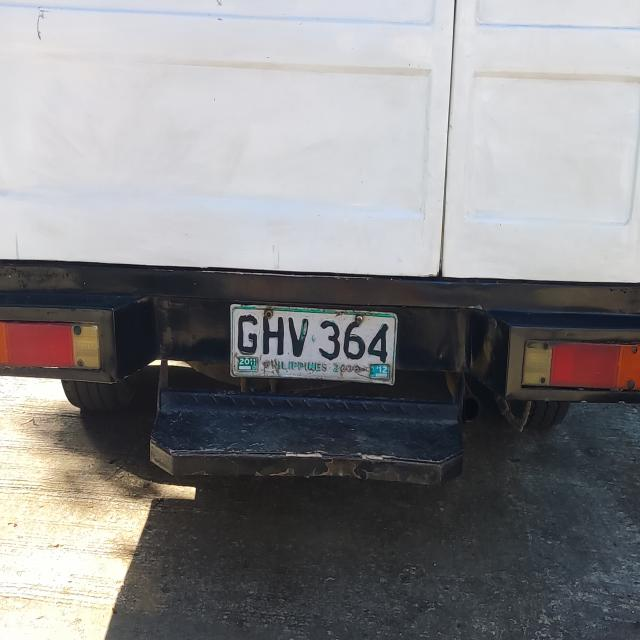plate: (226, 300, 402, 389)
